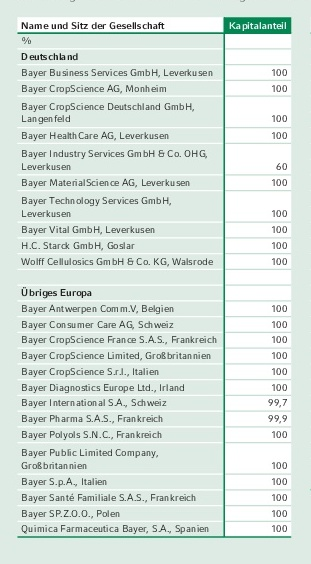table: (0, 0, 311, 564)
